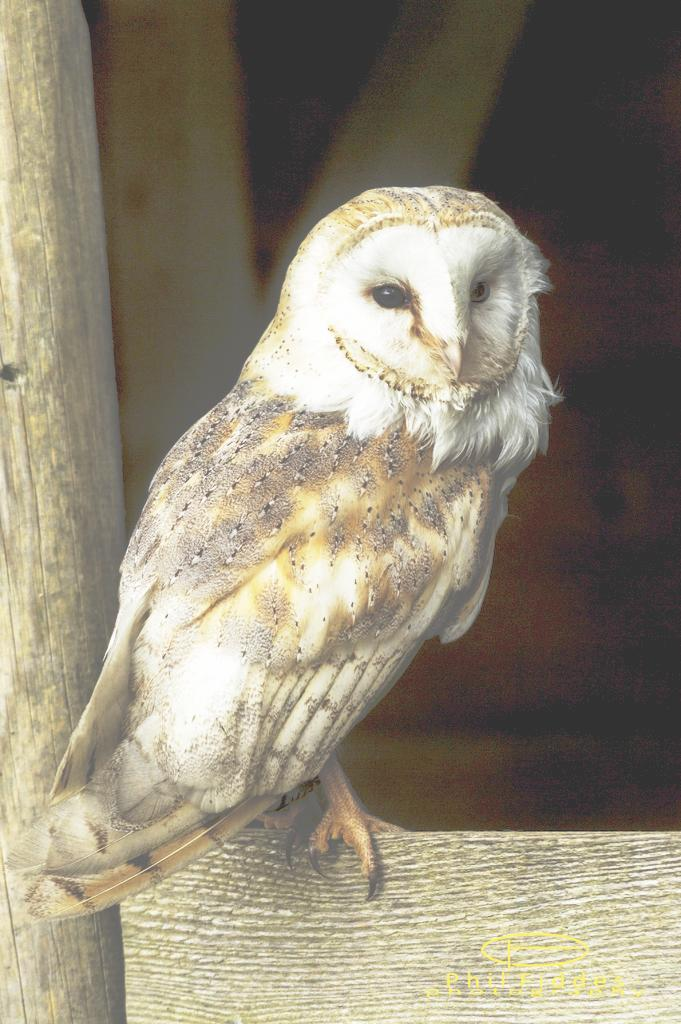Owl: (12, 183, 556, 923)
